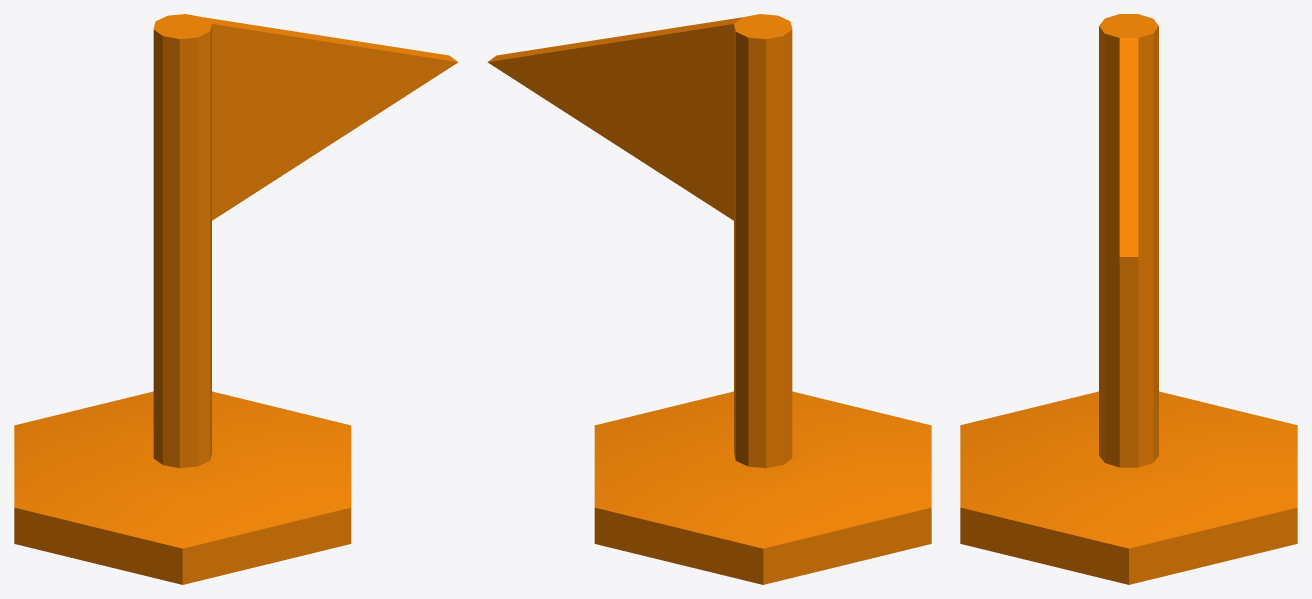
Rendered from Boardgame_Flag_Token_Orange_01.fbx.
The picture shows the model from 3 angles, left to right: view 1: azimuth 30°, elevation 25°; view 2: azimuth 150°, elevation 25°; view 3: azimuth 270°, elevation 25°; orthographic projection.
Visible parts, largest first — view 1: Model; view 2: Model; view 3: Model.
Part boxes in pixels (left/top/right/bottom): Model: left=14, top=14, right=458, bottom=584; Model: left=487, top=14, right=931, bottom=584; Model: left=960, top=14, right=1297, bottom=584.
Bounding box in the file's own units: 244 × 253 × 162.
